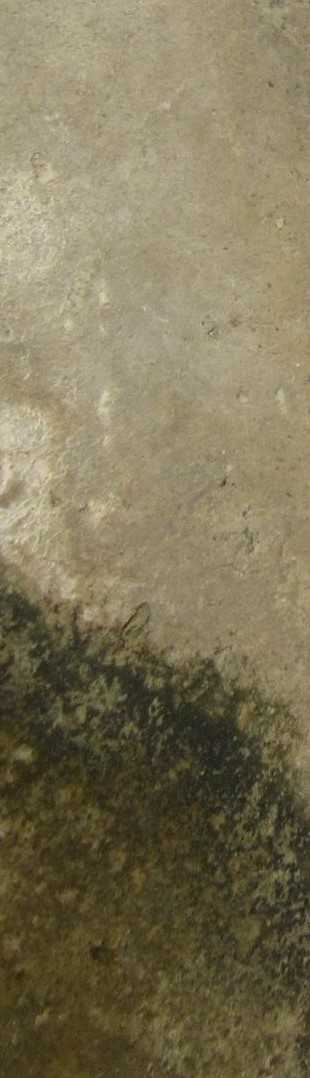Corrosion: (1, 562, 310, 1078)
